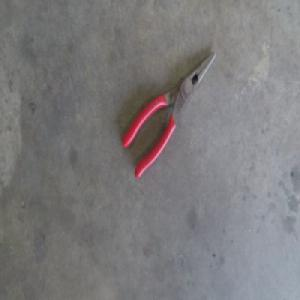Pliers: (121, 49, 217, 182)
